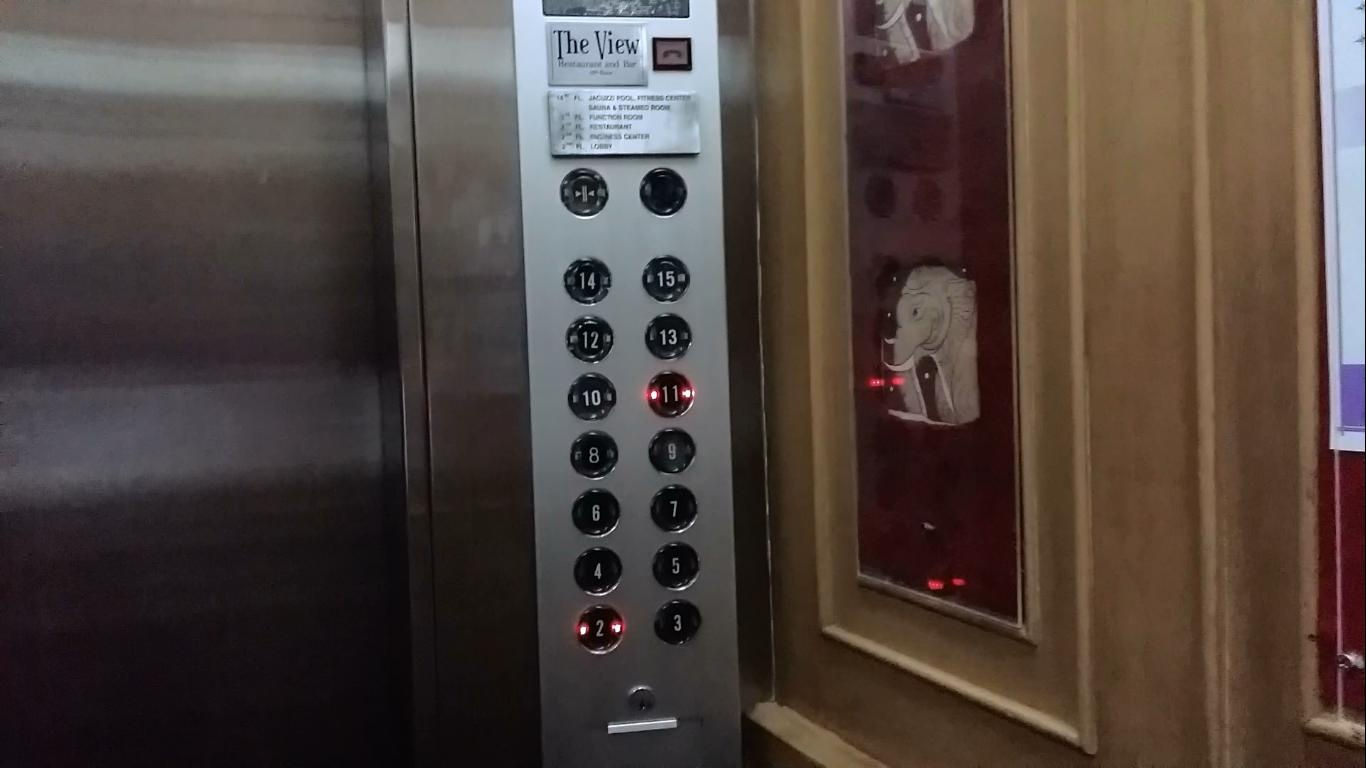10: (566, 372, 618, 421)
11: (645, 368, 694, 418)
12: (565, 314, 616, 364)
13: (645, 313, 692, 360)
14: (564, 257, 613, 305)
15: (642, 255, 690, 303)
2: (573, 601, 628, 656)
3: (650, 598, 703, 648)
4: (571, 545, 623, 596)
5: (652, 541, 703, 592)
6: (570, 486, 621, 538)
7: (650, 484, 699, 533)
8: (569, 428, 620, 480)
9: (645, 426, 699, 476)
call: (652, 36, 693, 71)
close: (558, 168, 610, 218)
empty: (640, 166, 688, 217)
keyhole: (623, 683, 658, 718)
